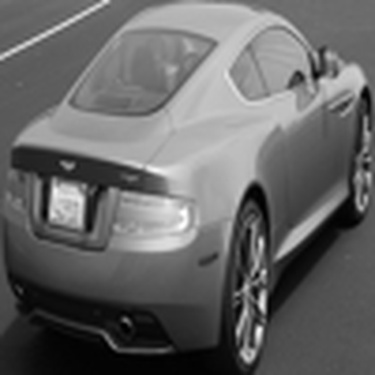car: (5, 13, 363, 359)
